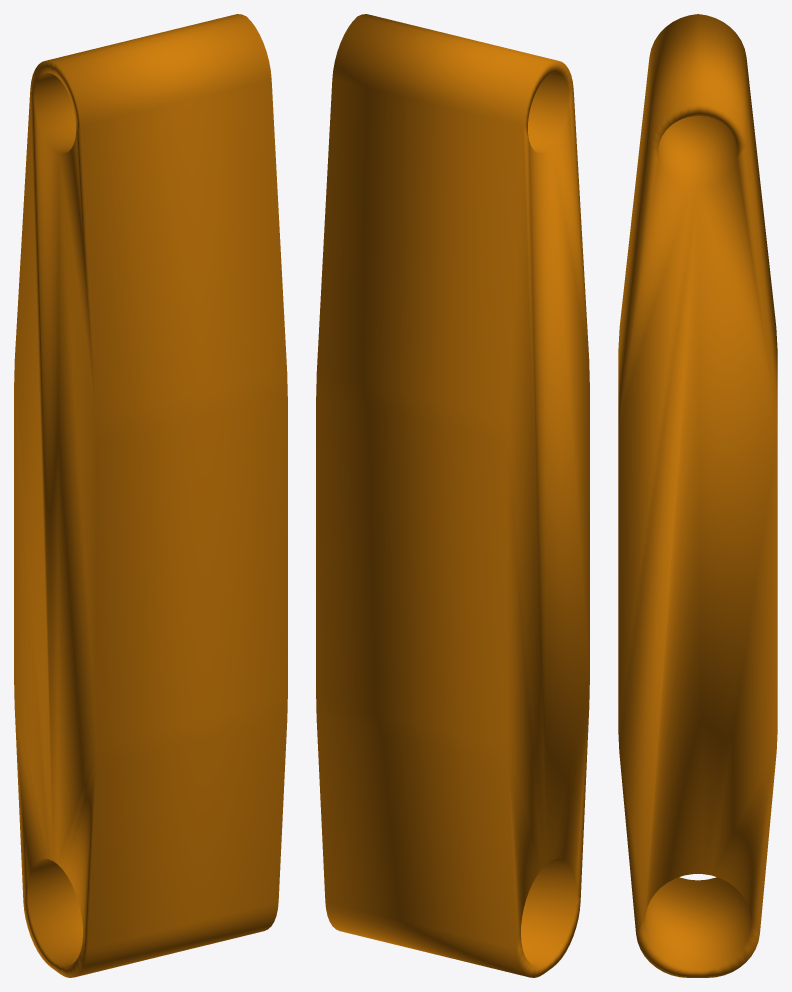
File: l_up_sus.obj
3 renders of one model, left to right at view 1: azimuth 30°, elevation 25°; view 2: azimuth 150°, elevation 25°; view 3: azimuth 270°, elevation 25°, orthographic. The views are drawn at different scales.
Visible parts, largest first — view 1: viper_L_up_sus; view 2: viper_L_up_sus; view 3: viper_L_up_sus.
Part boxes in pixels (<box>): viper_L_up_sus: <box>14,14,287,977</box>; viper_L_up_sus: <box>316,14,589,977</box>; viper_L_up_sus: <box>618,14,777,977</box>.
Size of the model in its own units: 0.08 by 0.3633 by 0.06.
